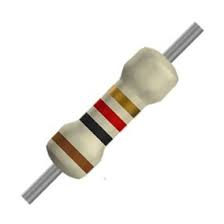resistor: (44, 39, 185, 201)
